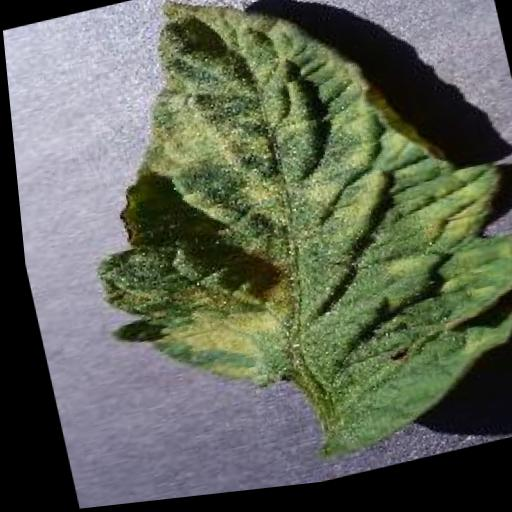Leaf Mold: (40, 0, 512, 509)
